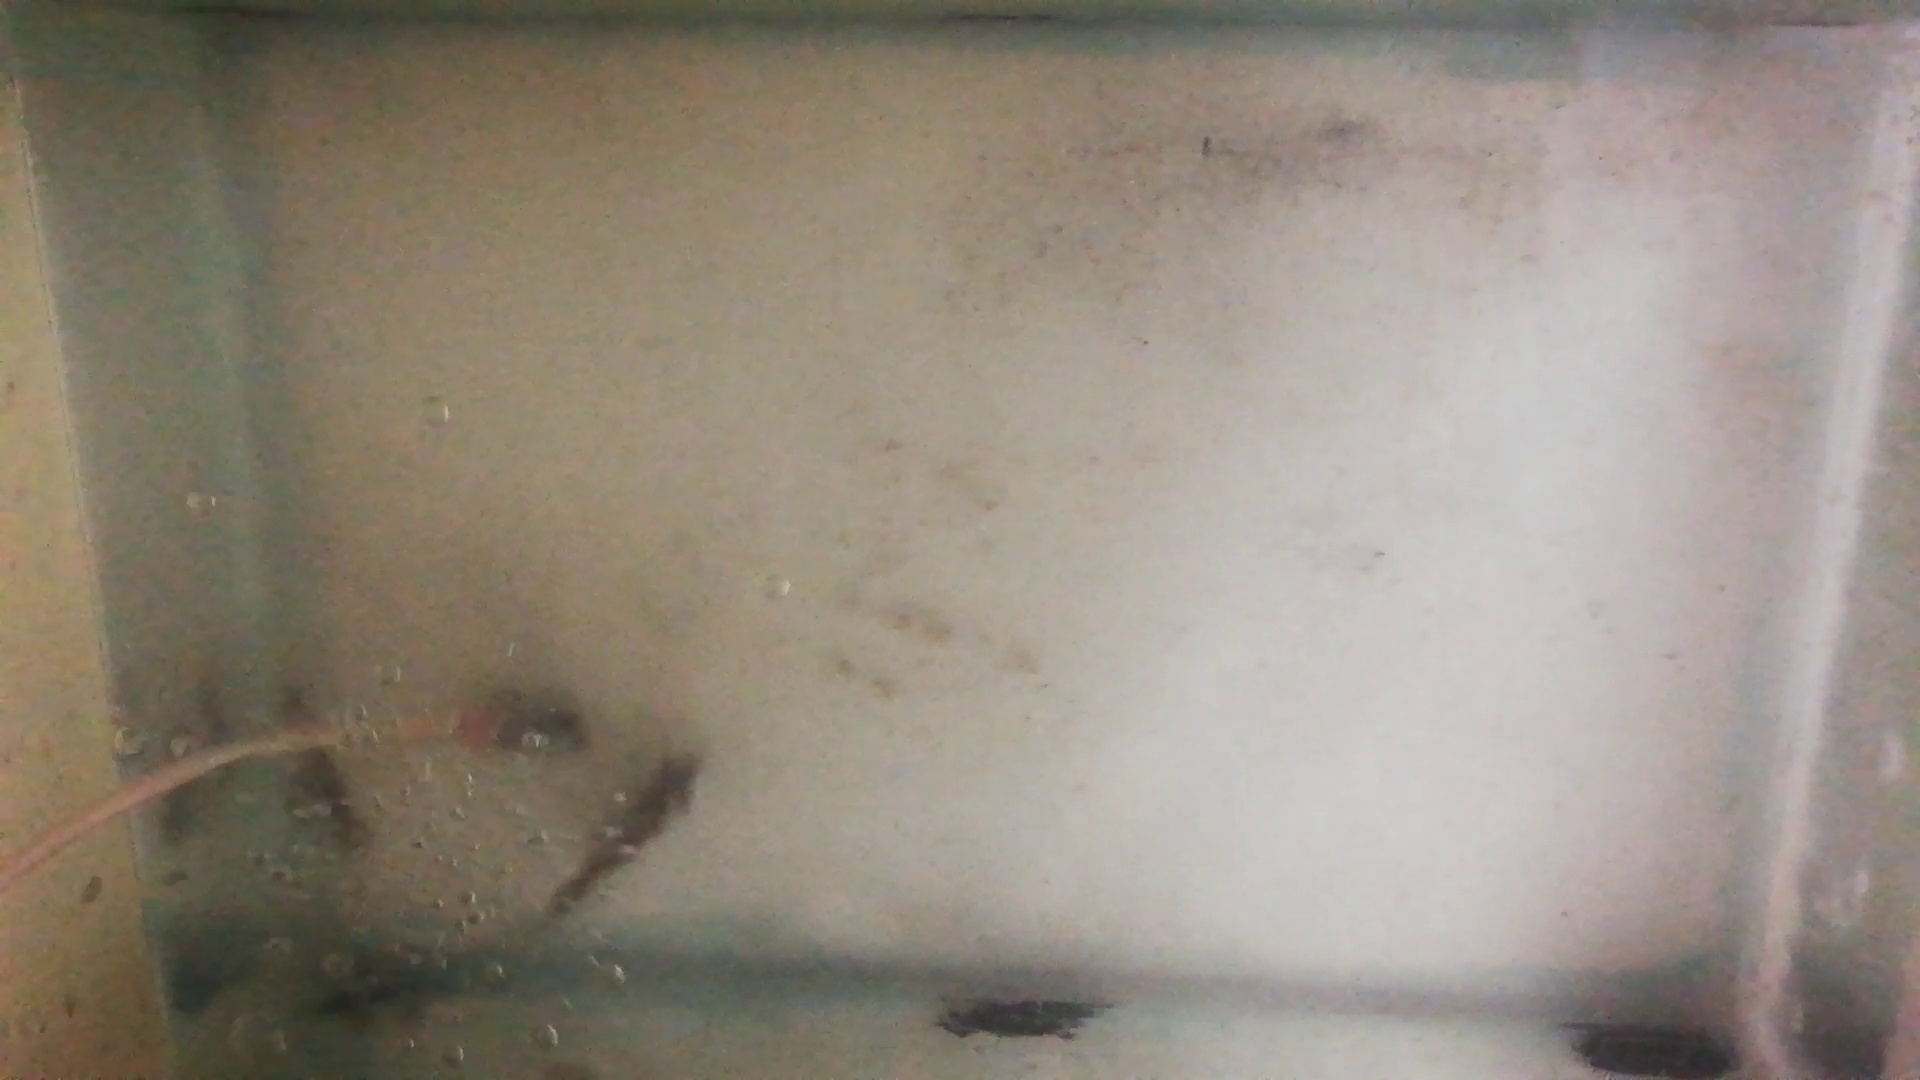fish: (553, 752, 705, 916), (280, 687, 368, 848)
